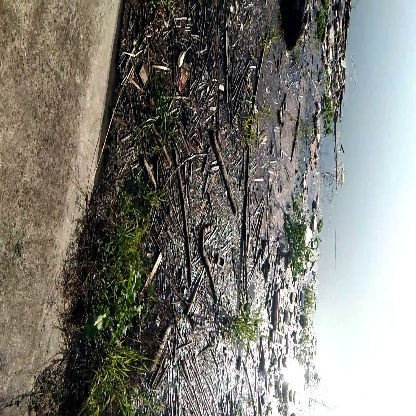branch: (238, 149, 261, 270)
